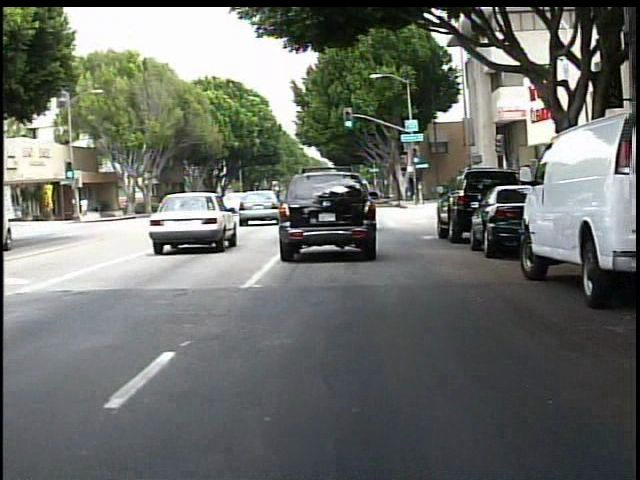person: (81, 193, 94, 221)
